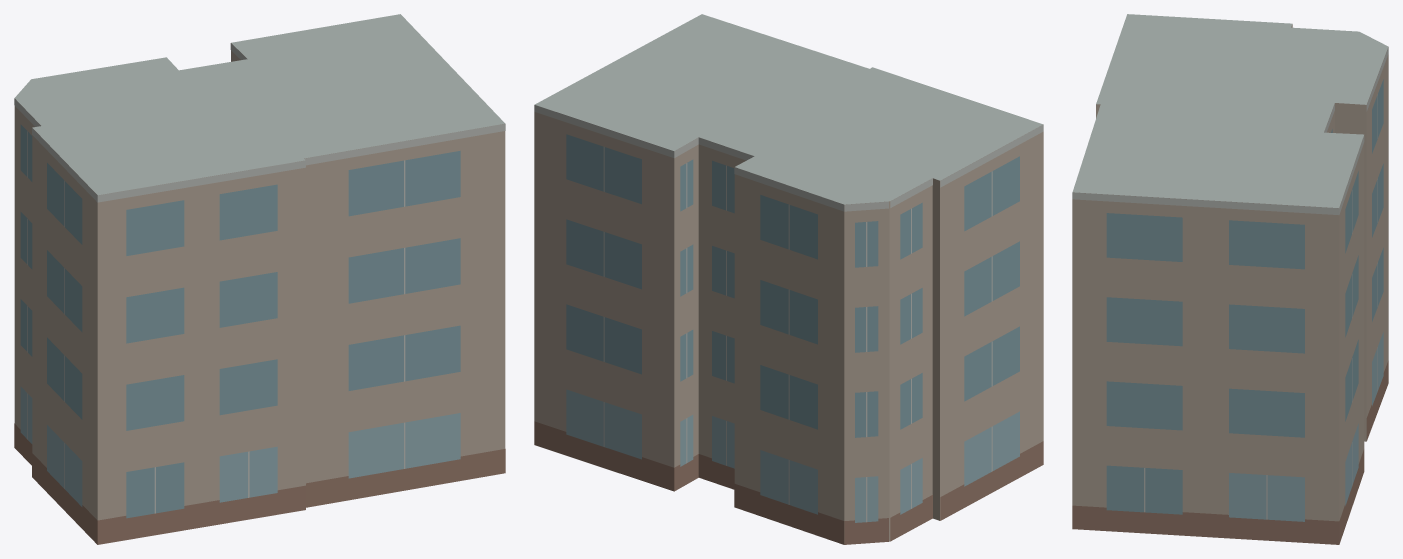
The model's file is survey-upis-32705391.glb.
The picture shows the model from 3 angles, left to right: view 1: azimuth 30°, elevation 25°; view 2: azimuth 150°, elevation 25°; view 3: azimuth 270°, elevation 25°; orthographic projection. The views are drawn at different scales.
Visible parts, largest first — view 1: survey-upis-32705391.tmp; view 2: survey-upis-32705391.tmp; view 3: survey-upis-32705391.tmp.
Boxes of the visible parts, x1,y1,x2,y2 form: survey-upis-32705391.tmp: [14, 14, 505, 544]; survey-upis-32705391.tmp: [534, 14, 1043, 544]; survey-upis-32705391.tmp: [1072, 14, 1388, 544].
Size of the model in its own units: 14.48 by 11.7 by 9.96.
